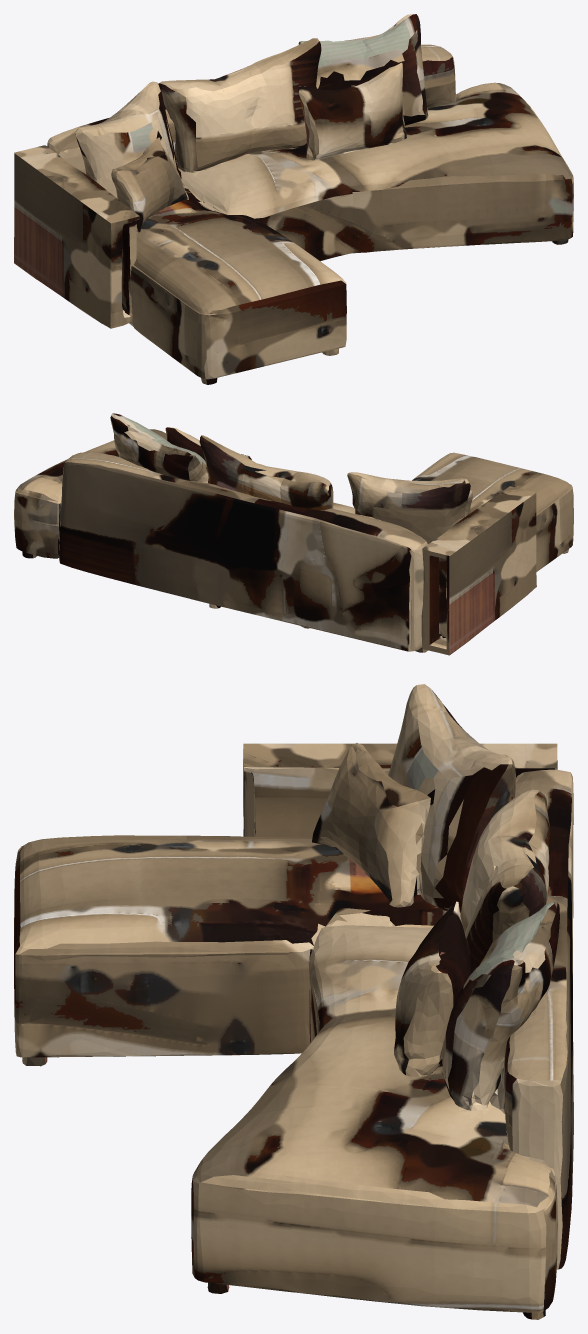
The model's file is SALA PIERO IZQUIERDA BUTERMIK.glb.
The picture shows the model from 3 angles, top to bottom: view 1: azimuth 30°, elevation 25°; view 2: azimuth 150°, elevation 25°; view 3: azimuth 270°, elevation 25°; orthographic projection. The views are drawn at different scales.
Visible parts, largest first — view 1: world; view 2: world; view 3: world.
Boxes of the visible parts, left/top/right/bottom form: world: left=14, top=14, right=573, bottom=384; world: left=14, top=413, right=573, bottom=655; world: left=14, top=684, right=573, bottom=1319.
Size of the model in its own units: 1 by 0.3396 by 0.6095.
1 material, 1 textured.
